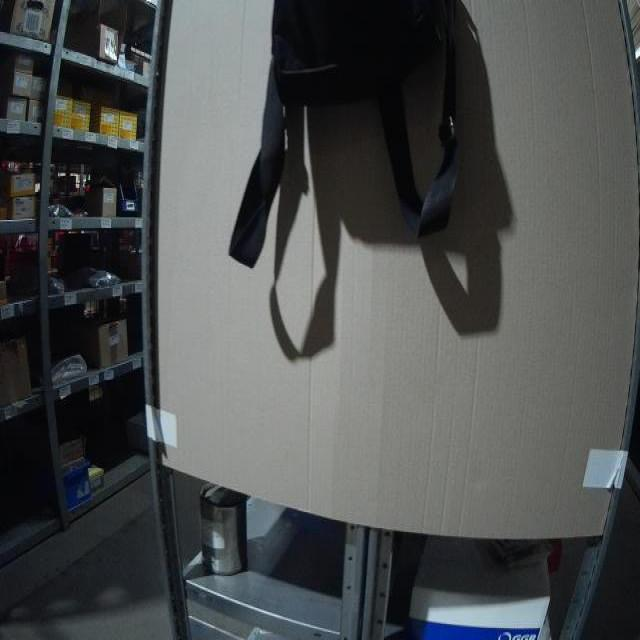small_load_carrier: (67, 462, 92, 508)
